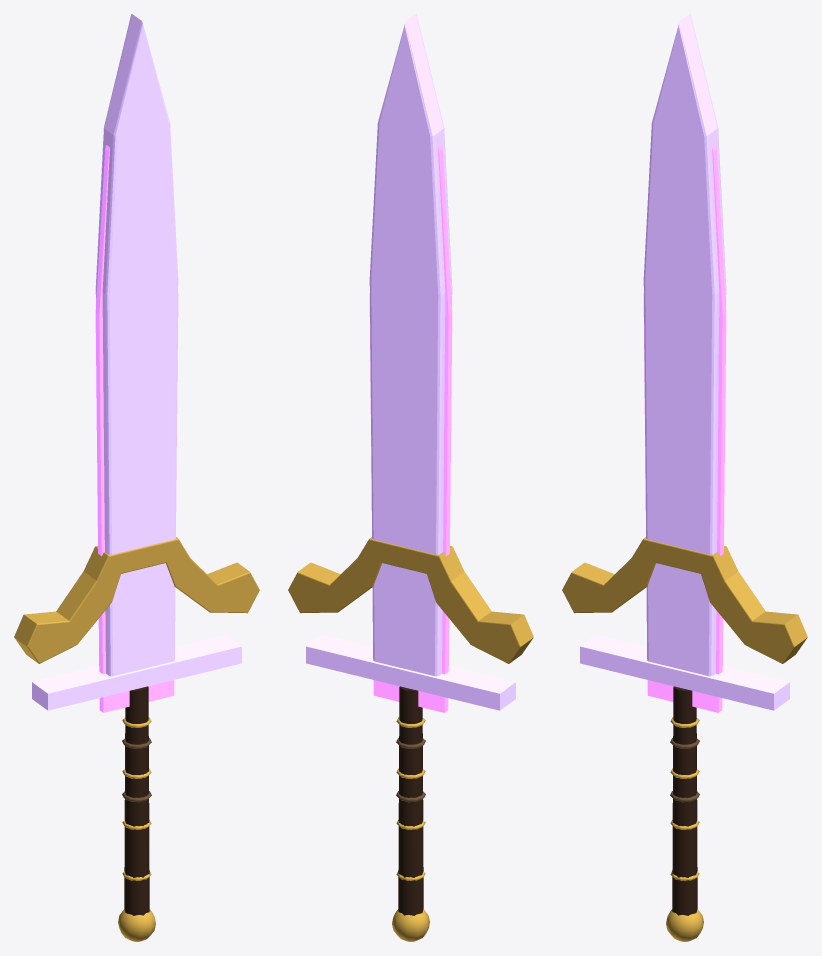
File: greatsword_f2_7f2d2fe2.glb
3 renders of one model, left to right at view 1: azimuth 30°, elevation 25°; view 2: azimuth 150°, elevation 25°; view 3: azimuth 330°, elevation 25°, orthographic.
Visible parts, largest first — view 1: m3_ow80_, m4_ow80_, m2_ow80_, m0_; view 2: m3_ow80_, m4_ow80_, m2_ow80_, m0_; view 3: m3_ow80_, m4_ow80_, m2_ow80_, m0_.
Part boxes in pixels (x1,y1,x2,y2): m3_ow80_: (32,14,241,710); m4_ow80_: (14,537,259,941); m2_ow80_: (124,686,149,915); m0_: (95,145,178,712); m3_ow80_: (306,14,515,710); m4_ow80_: (288,537,533,941); m2_ow80_: (398,686,423,915); m0_: (369,145,452,712); m3_ow80_: (580,14,789,710); m4_ow80_: (562,537,807,941); m2_ow80_: (672,686,697,915); m0_: (643,145,726,712).
Size of the model in its own units: 1.01 by 3.82 by 0.137.
